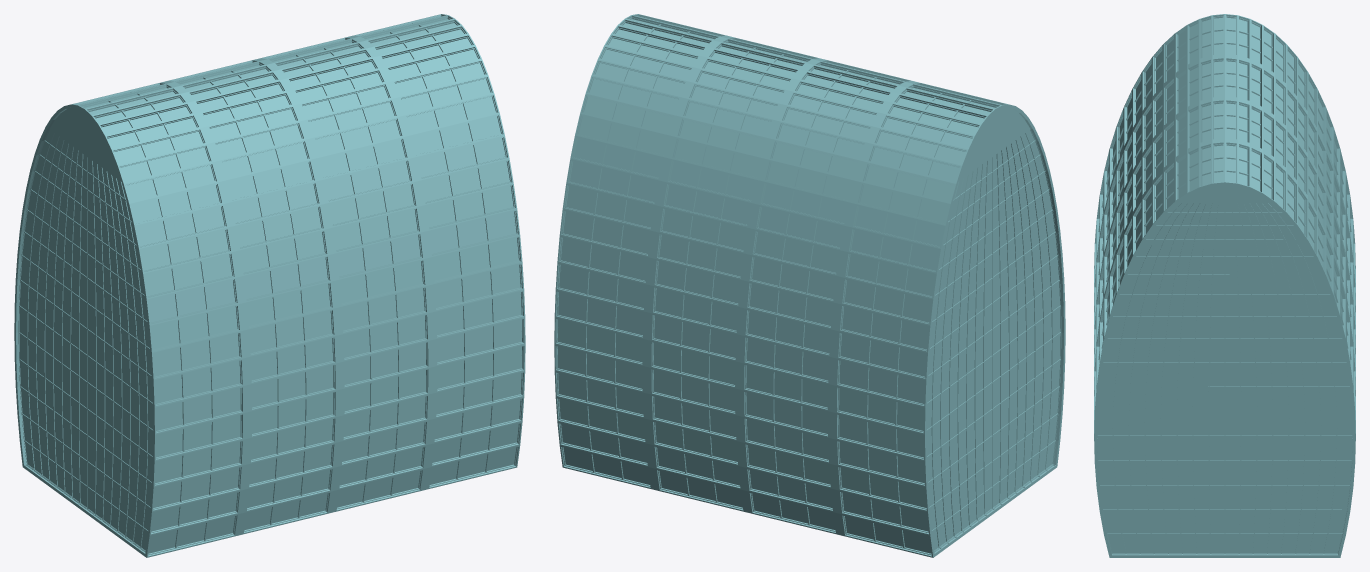
Rendered from SM_bulding_00.fbx.
3 renders of one model, left to right at view 1: azimuth 30°, elevation 25°; view 2: azimuth 150°, elevation 25°; view 3: azimuth 270°, elevation 25°, orthographic. The views are drawn at different scales.
Visible parts, largest first — view 1: SM_bulding_00; view 2: SM_bulding_00; view 3: SM_bulding_00.
Part boxes in pixels (left/top/right/bottom): SM_bulding_00: left=14, top=14, right=525, bottom=557; SM_bulding_00: left=554, top=14, right=1065, bottom=557; SM_bulding_00: left=1094, top=14, right=1355, bottom=557.
Size of the model in its own units: 21722 by 22586 by 14271.
